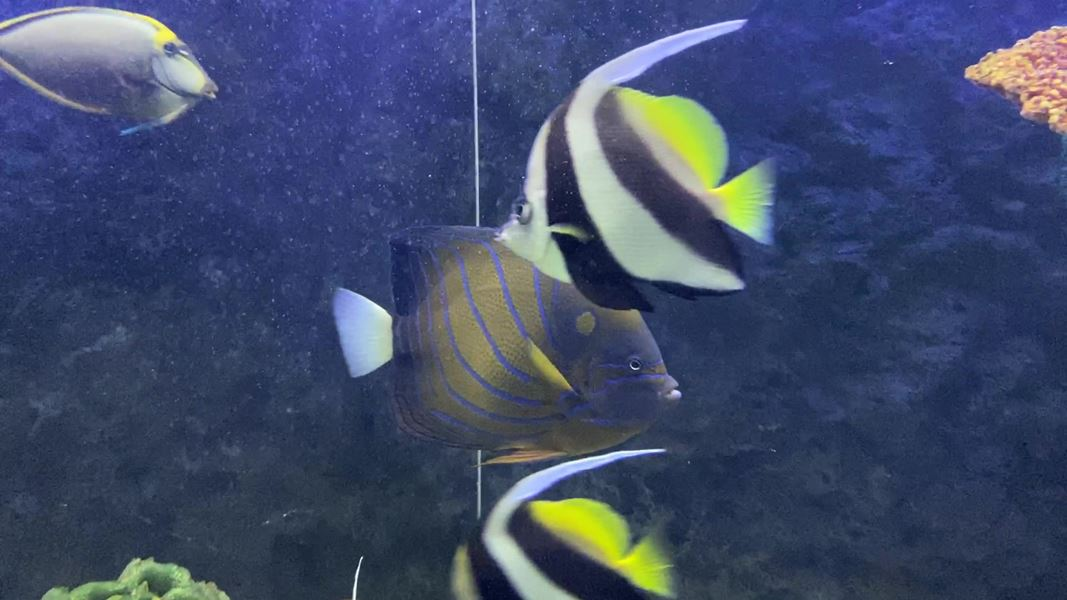Blue ring angelfish: (295, 214, 707, 488)
